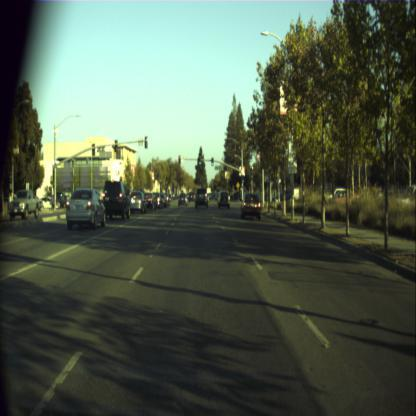Green: (198, 156, 201, 166), (211, 156, 214, 166), (250, 170, 253, 180), (241, 175, 244, 183)
RedLeft: (178, 154, 180, 164), (120, 176, 122, 186)
